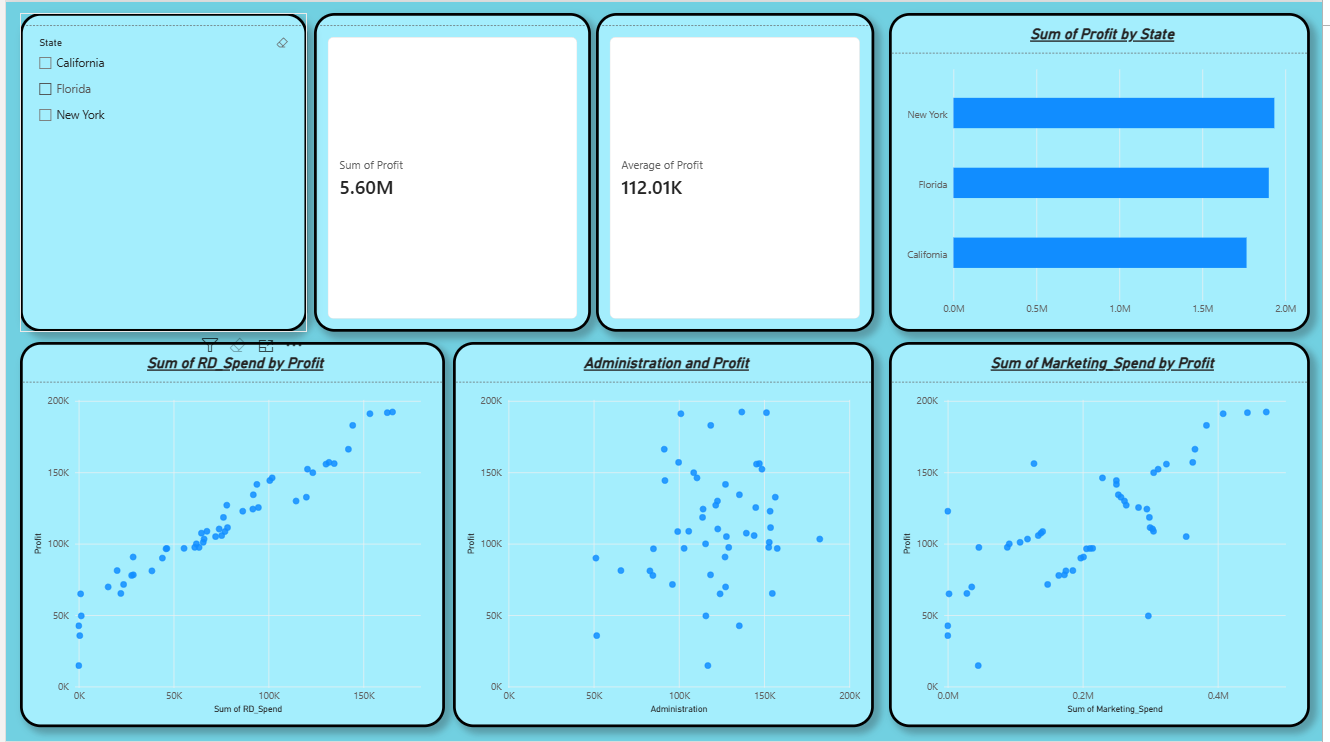

This screenshot's page, from the dashboard's own definition file:
{"tool":"powerbi","page":{"name":"startup profit analysis","canvas":[1920,1080],"ordinal":1},"visuals":[{"type":"cardVisual","fields":{"Data":["Sum(employee data.Profit)"]},"box":[449.4,16,404.1,465.4],"z":0},{"type":"cardVisual","fields":{"Data":["Avg(employee data.Profit)"]},"box":[860.8,16,405.6,465.4],"z":1},{"type":"barChart","fields":{"Category":["employee data.State"],"Y":["Sum(employee data.Profit)"]},"box":[1288.3,16,614.2,465.4],"z":2},{"type":"scatterChart","fields":{"X":["Sum(employee data.RD_Spend)"],"Y":["employee data.Profit"]},"box":[20.4,496,620.1,561.7],"z":3},{"type":"scatterChart","fields":{"X":["Sum(employee data.Marketing_Spend)"],"Y":["employee data.Profit"]},"box":[1288.3,496,614.2,561.7],"z":4},{"type":"slicer","fields":{"Values":["employee data.State"]},"box":[20.4,16,418.7,465.4],"z":5},{"type":"scatterChart","fields":{"X":["employee data.Administration"],"Y":["employee data.Profit"]},"box":[652.2,496,614.2,561.7],"z":6}]}

Visuals, with their boxes in screenshot pixels (x1, y1, x2, y2), scaled from the page's 1920x1080 canvas onto the 1330x742 screenshot:
cardVisual - Sum(employee data.Profit): [left=311, top=11, right=591, bottom=331]
cardVisual - Avg(employee data.Profit): [left=596, top=11, right=877, bottom=331]
barChart - employee data.State x Sum(employee data.Profit): [left=892, top=11, right=1318, bottom=331]
scatterChart - Sum(employee data.RD_Spend) x employee data.Profit: [left=14, top=341, right=444, bottom=727]
scatterChart - Sum(employee data.Marketing_Spend) x employee data.Profit: [left=892, top=341, right=1318, bottom=727]
slicer - employee data.State: [left=14, top=11, right=304, bottom=331]
scatterChart - employee data.Administration x employee data.Profit: [left=452, top=341, right=877, bottom=727]
